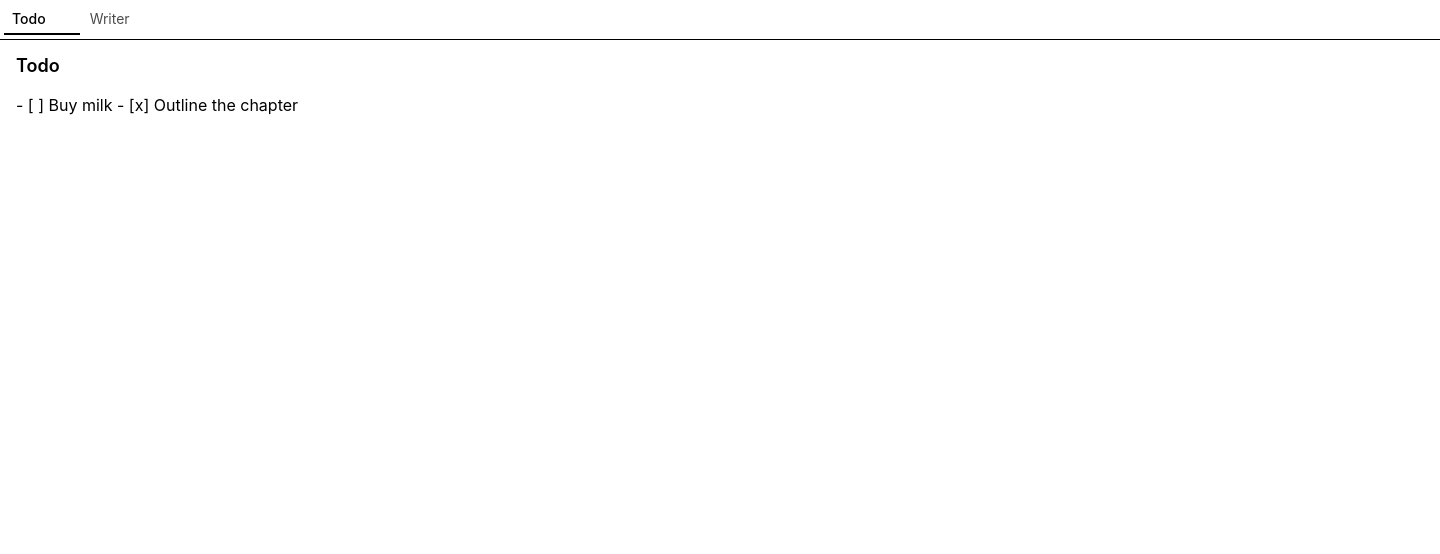
Scenario: keeps pinned notes available beside Writer
Expected: the element named "Pinned note Todo" is shown, [16, 55, 298, 115]
Click the tab "Writer".
click(110, 20)  # box [82, 4, 138, 34]
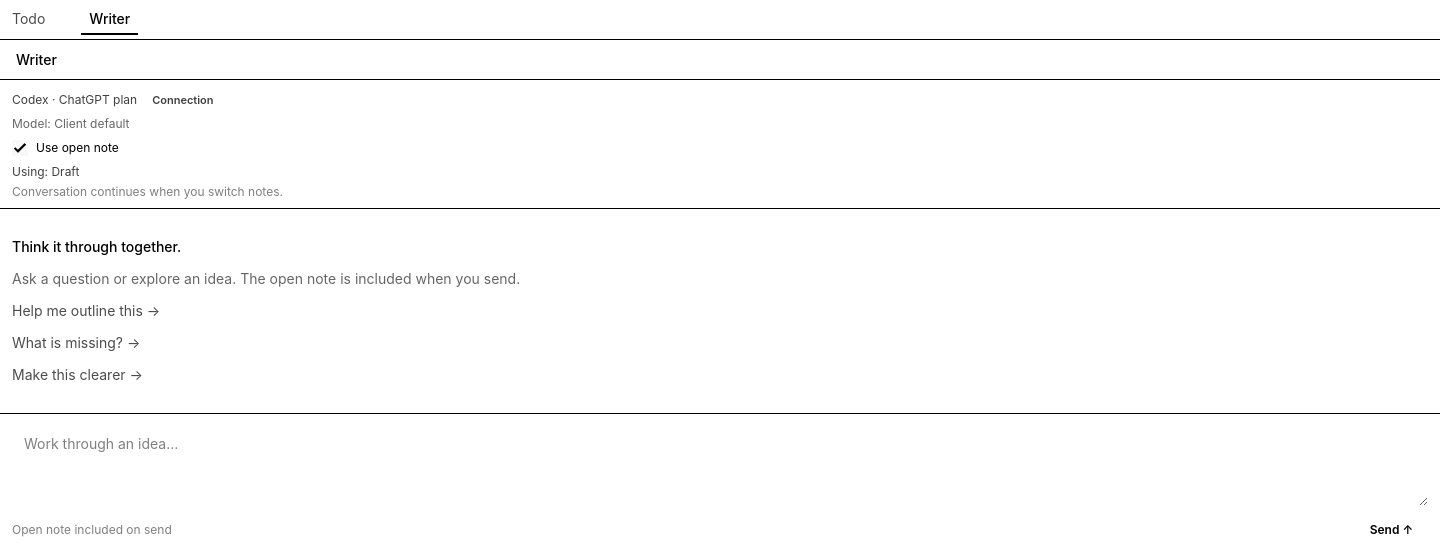
Expected: the text box named "Message Writer" is shown, [12, 426, 1428, 506]
Click the tab "Todo".
click(29, 18)  # box [4, 4, 53, 32]
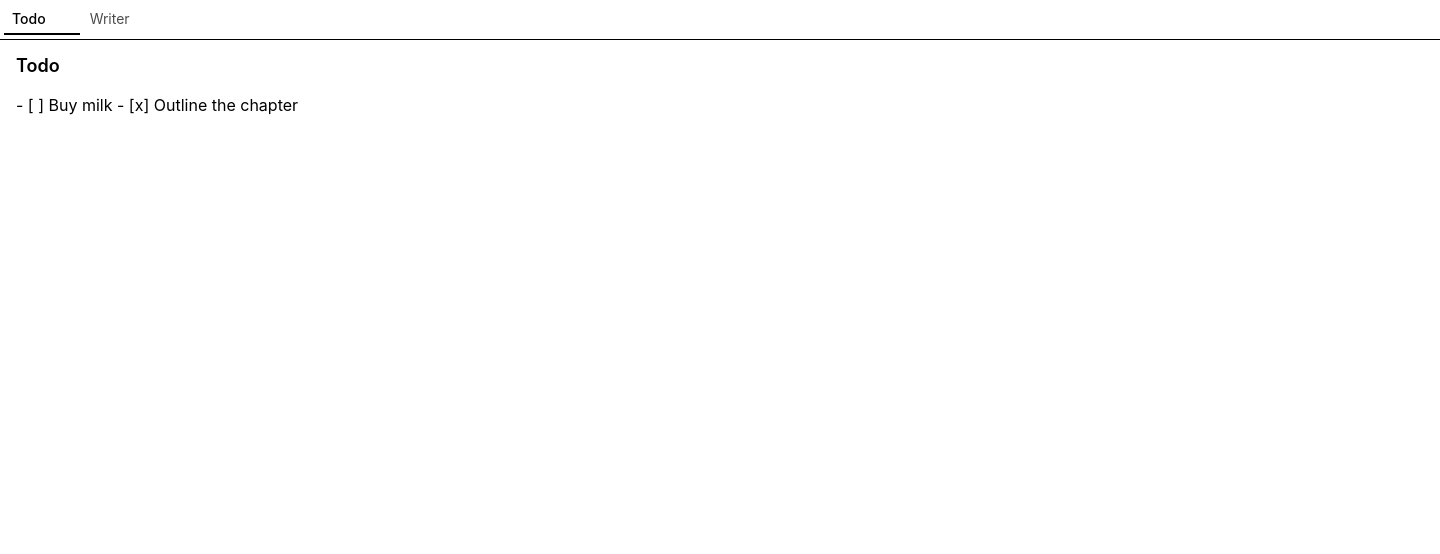
Expected: the element named "Pinned note Todo" shows "Buy milk", [16, 95, 298, 115]
